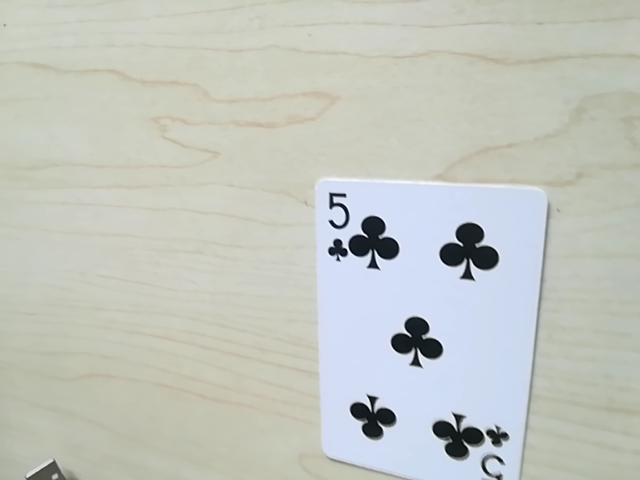mh 5: (317, 186, 363, 261), (468, 423, 510, 478)
